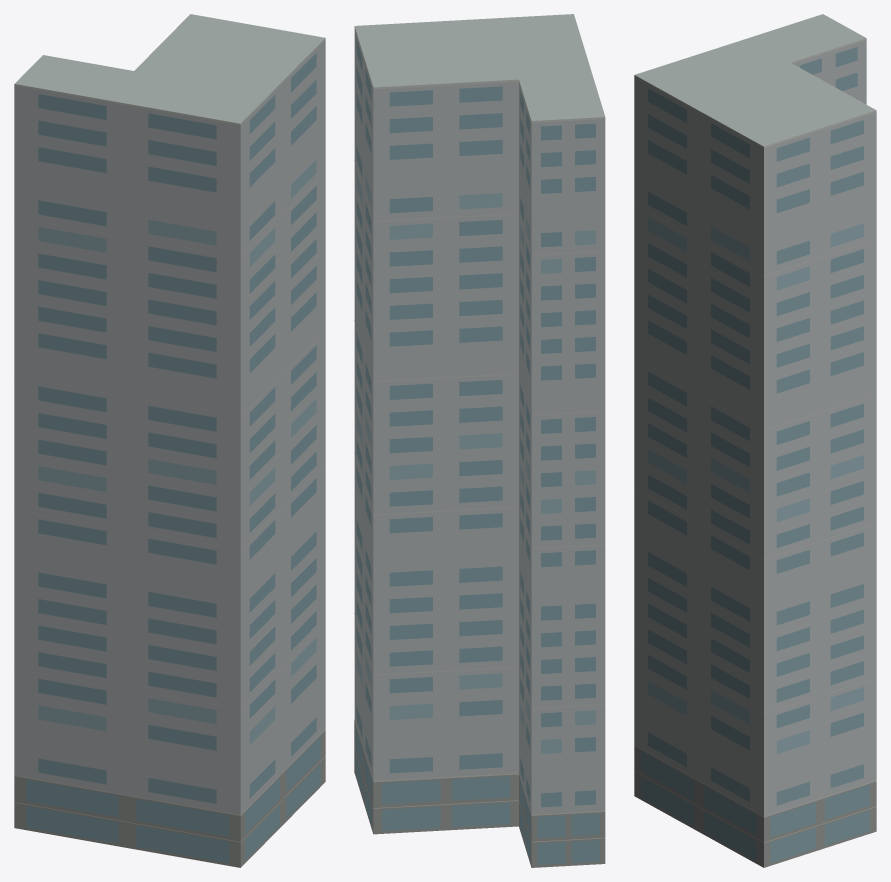
The model's file is residential-38a4cd86-c9b6-4a33-810b-b25e8b92d0a5.glb.
3 views of the same model, side by side, from view 1: azimuth 30°, elevation 25°; view 2: azimuth 150°, elevation 25°; view 3: azimuth 270°, elevation 25° (orthographic). The views are drawn at different scales.
Visible parts, largest first — view 1: residential-38a4cd86-c9b6-4a33-810b-b25e8b92d0a5.tmp; view 2: residential-38a4cd86-c9b6-4a33-810b-b25e8b92d0a5.tmp; view 3: residential-38a4cd86-c9b6-4a33-810b-b25e8b92d0a5.tmp.
Part boxes in pixels (bbox=[...]): residential-38a4cd86-c9b6-4a33-810b-b25e8b92d0a5.tmp: bbox=[14, 14, 325, 867]; residential-38a4cd86-c9b6-4a33-810b-b25e8b92d0a5.tmp: bbox=[354, 14, 605, 867]; residential-38a4cd86-c9b6-4a33-810b-b25e8b92d0a5.tmp: bbox=[634, 14, 876, 867].
Size of the model in its own units: 36.71 by 93 by 28.33.
